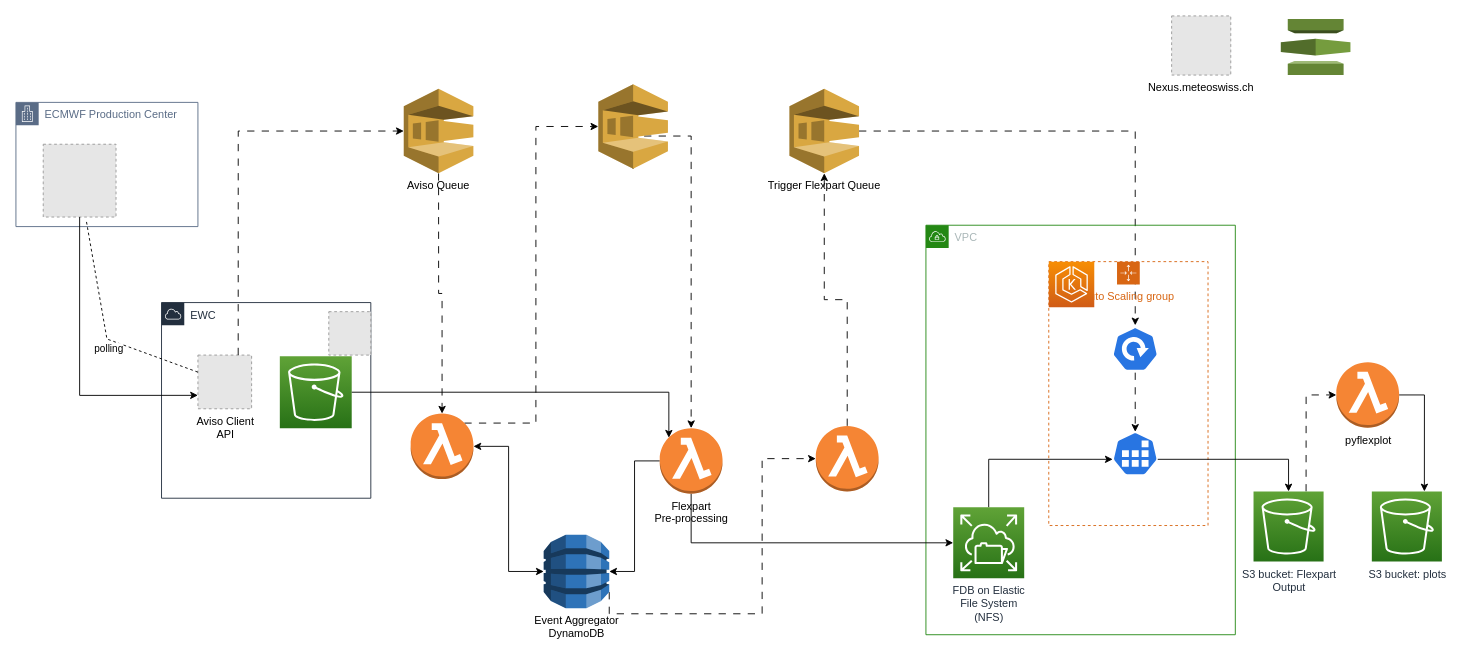
Some shapes in this 1461 by 657 pixel diagram are drawn without their labels. Grey dashed boxes stand in for pictures. The shapes that lost their labels are listed below. From the top down, each one's centre as x and y in pixels, then its label:
At (1315,46): "Certificate Manager".
At (632,126): "Pre-Proc Queue".
At (1135,348): "Flexpart-s".
At (315,391): "IFS Bucket EWC".
At (441,446): "Event Aggregator IFS data".
At (847,458): "Event Aggregator Processed Data".
At (1135,453): "flexpart".
